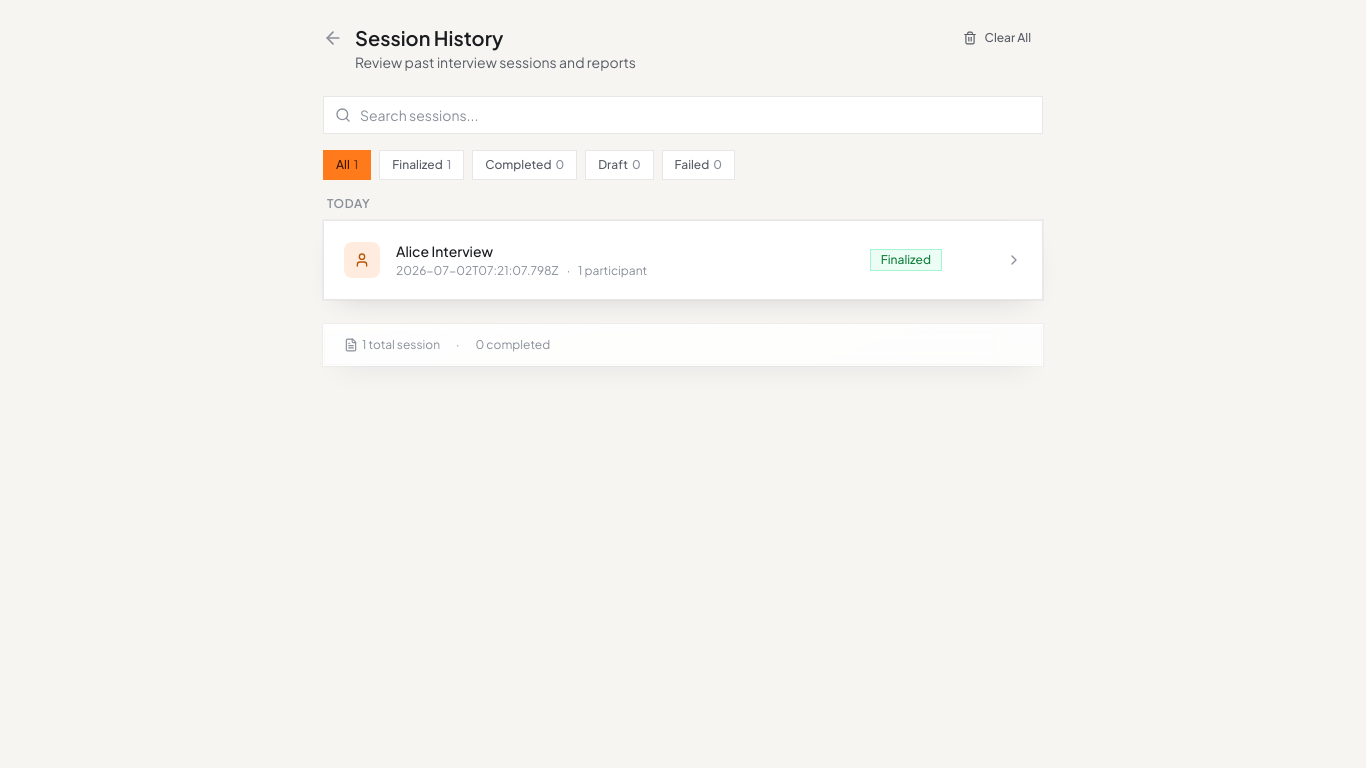
Test case: HistoryView › cancels deletion when Cancel is clicked in dialog
Click the button "Clear All".
click(997, 38)  # box x1=951 y1=24 x2=1043 y2=52
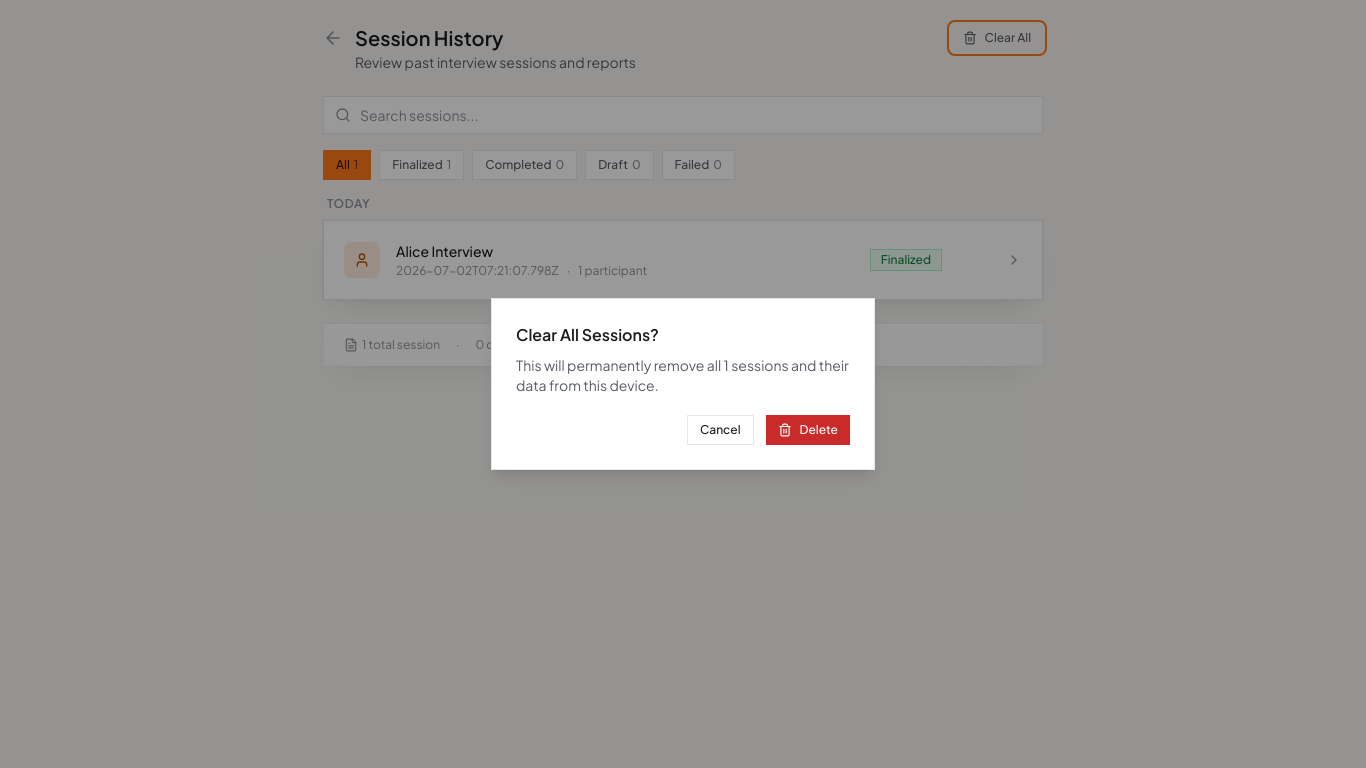
Click the button "Cancel".
click(720, 430)  # box x1=687 y1=415 x2=754 y2=445
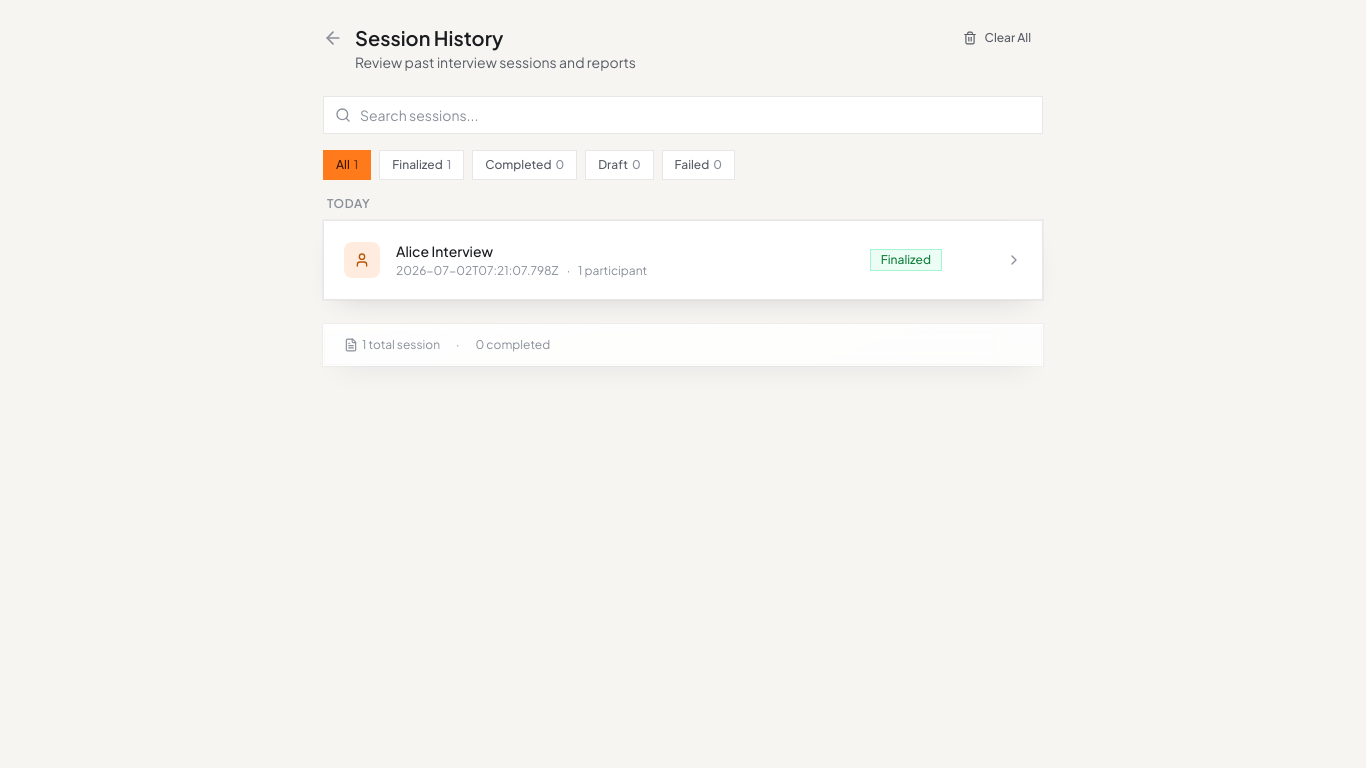
Expected: the text "Alice Interview" is shown, x1=396 y1=242 x2=493 y2=260
Result: the heading "Clear All Sessions?" is gone
